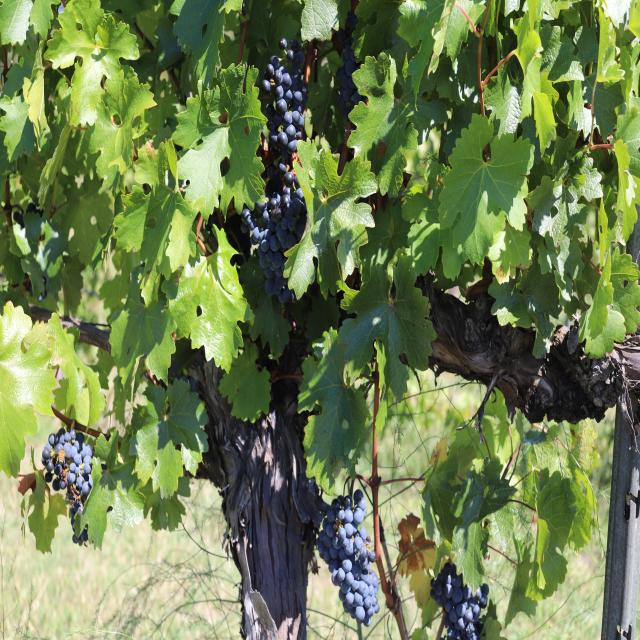grapes: (241, 38, 307, 303), (317, 489, 379, 626), (42, 428, 93, 545), (430, 562, 489, 640), (42, 428, 92, 512), (336, 30, 364, 118)
